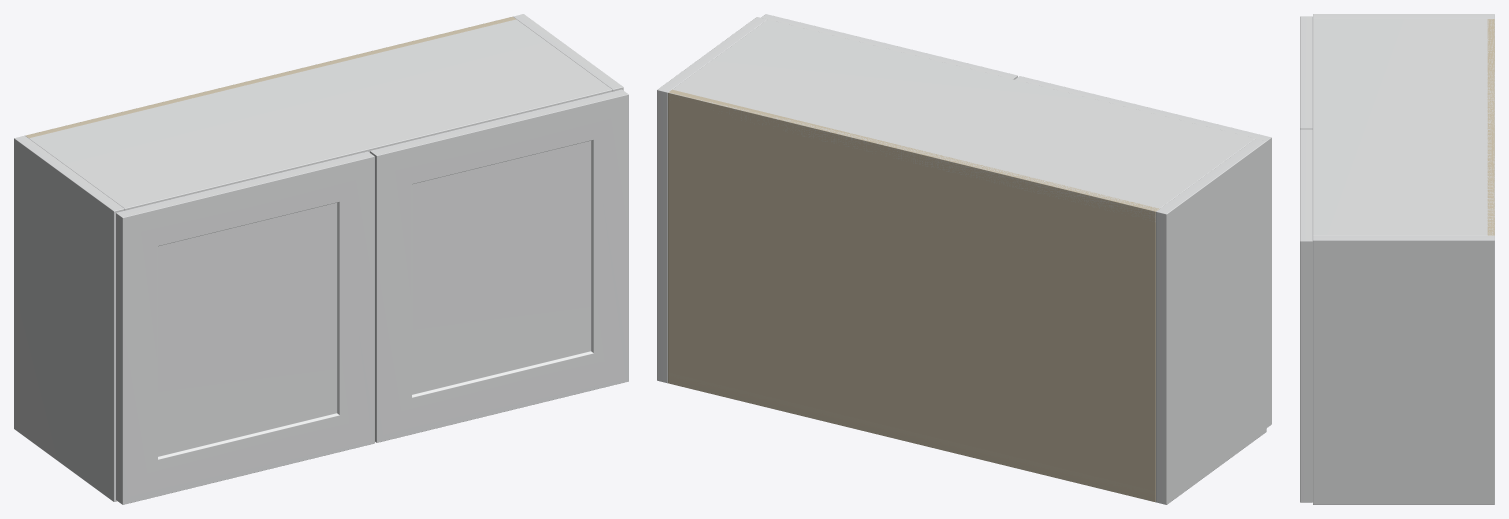
The model's file is PLY-WSS-W3318.glb.
3 renders of one model, left to right at view 1: azimuth 30°, elevation 25°; view 2: azimuth 150°, elevation 25°; view 3: azimuth 270°, elevation 25°, orthographic. The views are drawn at different scales.
Parts seen in each view (by area): view 1: Shaker door, Shaker door.001, Carcass top, Carcass left, Carcass back, Carcass right; view 2: Carcass back, Carcass top, Carcass left, Carcass bottom, Carcass right, Shaker door, Shaker door.001; view 3: Carcass right, Carcass top, Shaker door.001, Carcass back, Shaker door, Carcass left.
Boxes of the visible parts, bbox=[...] form: Shaker door: bbox=[116, 151, 374, 504]; Shaker door.001: bbox=[370, 89, 628, 442]; Carcass top: bbox=[25, 19, 612, 210]; Carcass left: bbox=[14, 135, 124, 501]; Carcass back: bbox=[26, 16, 515, 138]; Carcass right: bbox=[513, 14, 623, 91]; Carcass back: bbox=[668, 89, 1159, 502]; Carcass top: bbox=[668, 19, 1255, 221]; Carcass left: bbox=[1156, 138, 1266, 504]; Carcass bottom: bbox=[668, 373, 1155, 500]; Carcass right: bbox=[657, 17, 767, 383]; Shaker door: bbox=[1015, 76, 1271, 427]; Shaker door.001: bbox=[761, 14, 1017, 79]; Carcass right: bbox=[1313, 235, 1494, 504]; Carcass top: bbox=[1313, 19, 1494, 235]; Shaker door.001: bbox=[1300, 129, 1312, 502]; Carcass back: bbox=[1487, 19, 1494, 235]; Shaker door: bbox=[1300, 16, 1312, 129]; Carcass left: bbox=[1313, 14, 1494, 18].
Bounding box in the file's own units: 0.8382 × 0.4572 × 0.3048.
